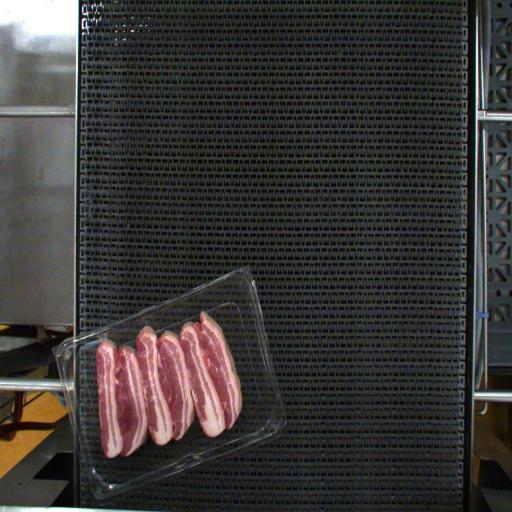packaging-error: (95, 332, 110, 342)
